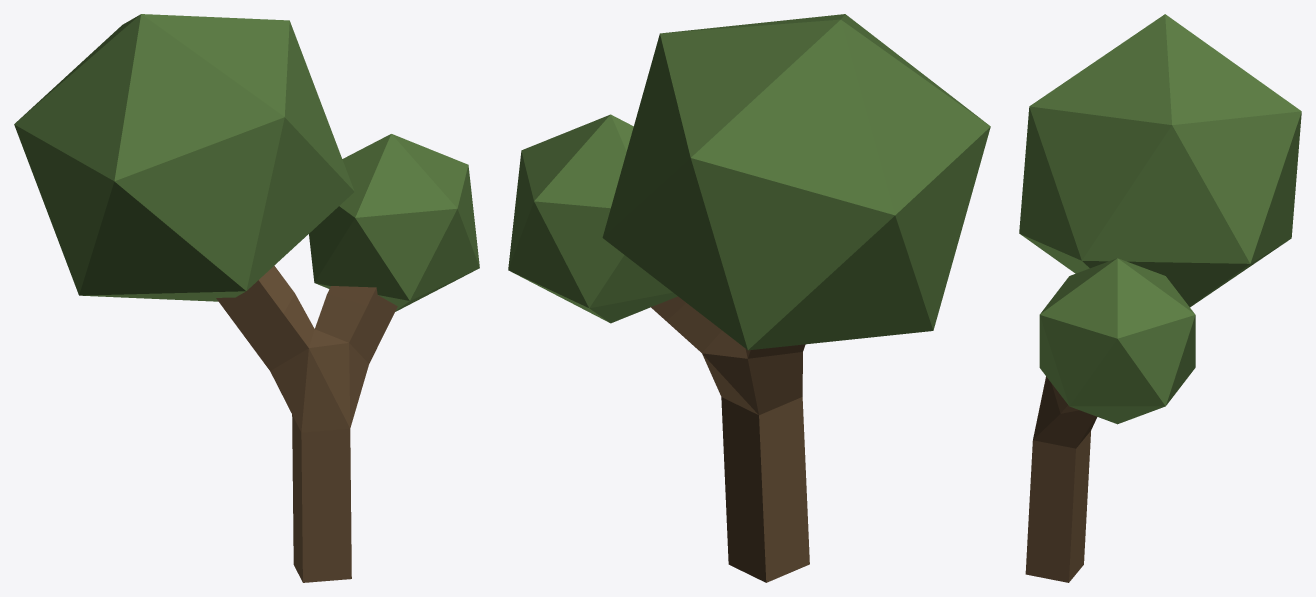
File: petit_chene.fbx
3 views of the same model, side by side, from view 1: azimuth 30°, elevation 25°; view 2: azimuth 150°, elevation 25°; view 3: azimuth 270°, elevation 25° (orthographic). The views are drawn at different scales.
Parts seen in each view (by area): view 1: Plan; view 2: Plan; view 3: Plan.
Boxes of the visible parts, x1,y1,x2,y2 form: Plan: [14, 14, 479, 582]; Plan: [508, 14, 990, 582]; Plan: [1019, 14, 1301, 582].
Bounding box in the file's own units: 565 × 757 × 386.
